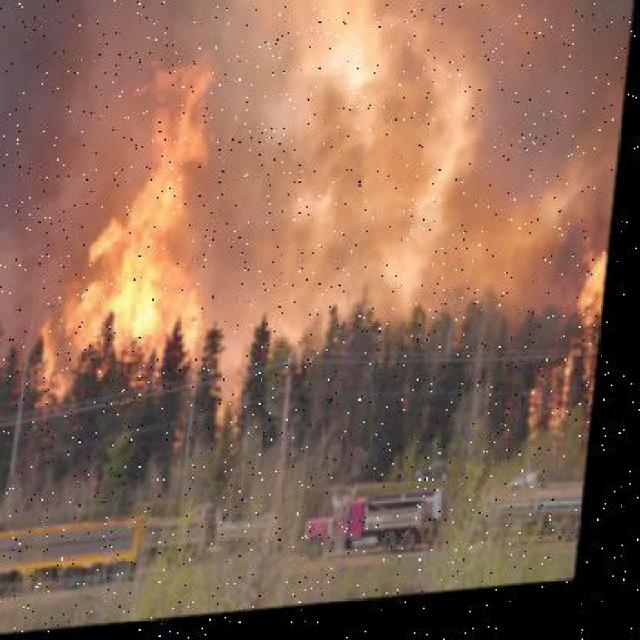fire: (227, 1, 511, 337), (35, 69, 247, 384), (556, 230, 618, 493)
